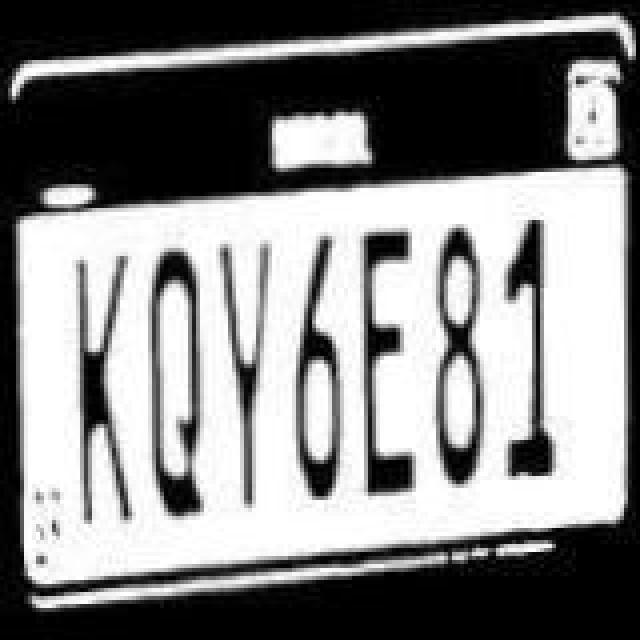1: (492, 212, 560, 484)
6: (286, 232, 350, 508)
8: (426, 222, 490, 490)
E: (354, 226, 426, 510)
K: (72, 248, 136, 528)
Q: (148, 248, 220, 528)
Y: (220, 246, 288, 514)
